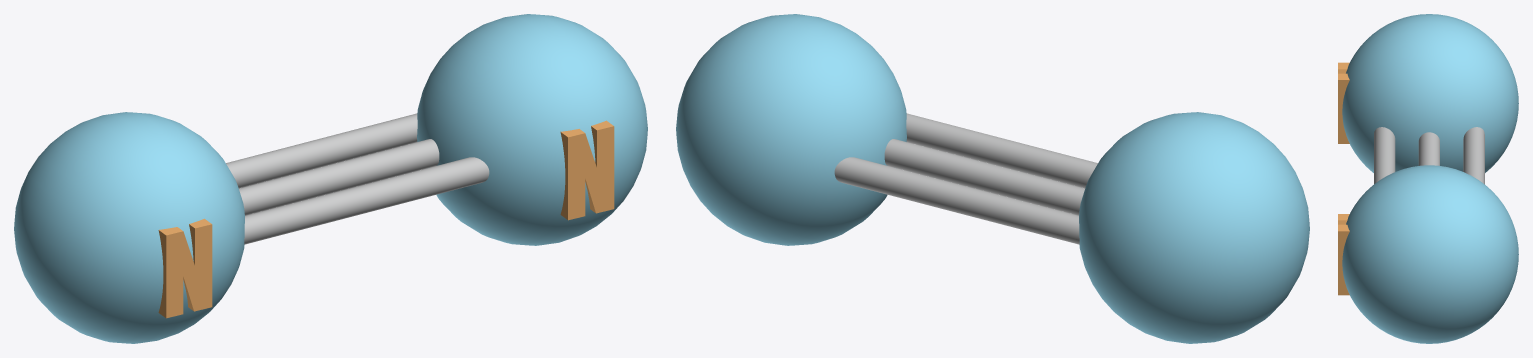
File: asset.glb
3 renders of one model, left to right at view 1: azimuth 30°, elevation 25°; view 2: azimuth 150°, elevation 25°; view 3: azimuth 270°, elevation 25°, orthographic. The views are drawn at different scales.
Visible parts, largest first — view 1: 3DGeom-2, 3DGeom-1, 3DGeom-3; view 2: 3DGeom-2, 3DGeom-1; view 3: 3DGeom-2, 3DGeom-1, 3DGeom-3.
Boxes of the visible parts, left/top/right/bottom form: 3DGeom-2: left=14, top=14, right=647, bottom=343; 3DGeom-1: left=226, top=113, right=489, bottom=244; 3DGeom-3: left=158, top=120, right=614, bottom=318; 3DGeom-2: left=676, top=14, right=1309, bottom=343; 3DGeom-1: left=834, top=113, right=1097, bottom=244; 3DGeom-2: left=1342, top=14, right=1518, bottom=343; 3DGeom-1: left=1374, top=127, right=1484, bottom=184; 3DGeom-3: left=1338, top=62, right=1349, bottom=295.
Size of the model in its own units: 0.6 by 0.2 by 0.202.
